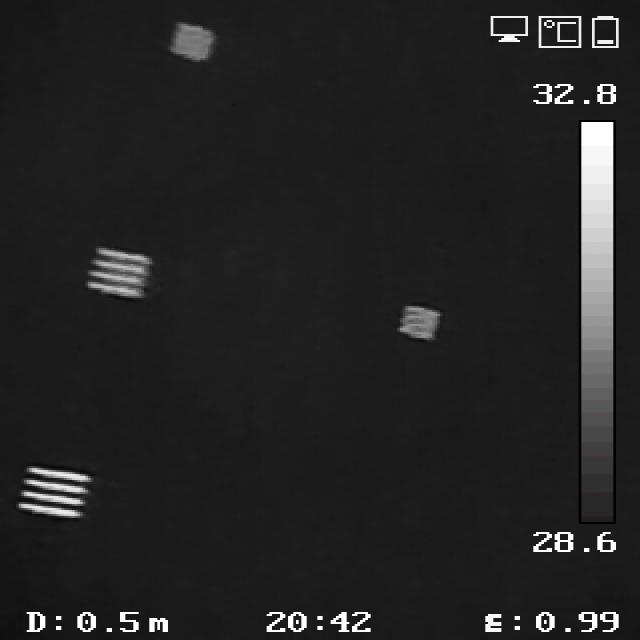Distinguishable 4-bar target: (20, 466, 91, 521), (88, 244, 156, 300)
Indistinguishable 4-bar target: (169, 20, 212, 62)
threshold 4-bar target: (403, 300, 445, 344)
